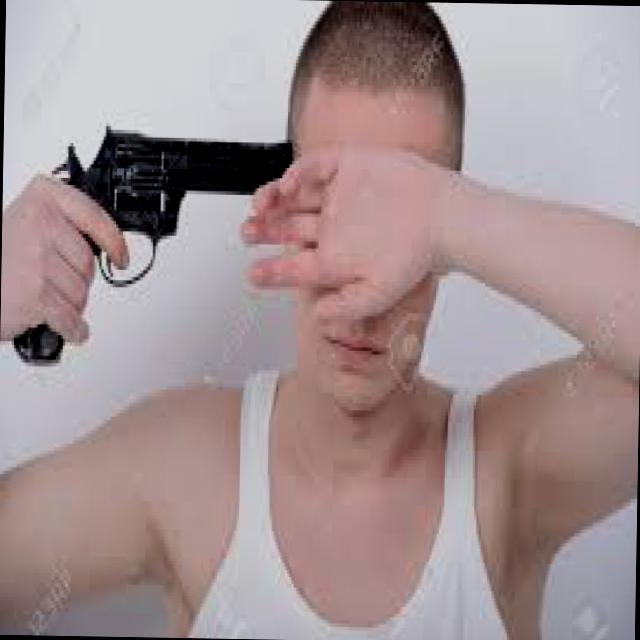handgun: (6, 120, 292, 364)
